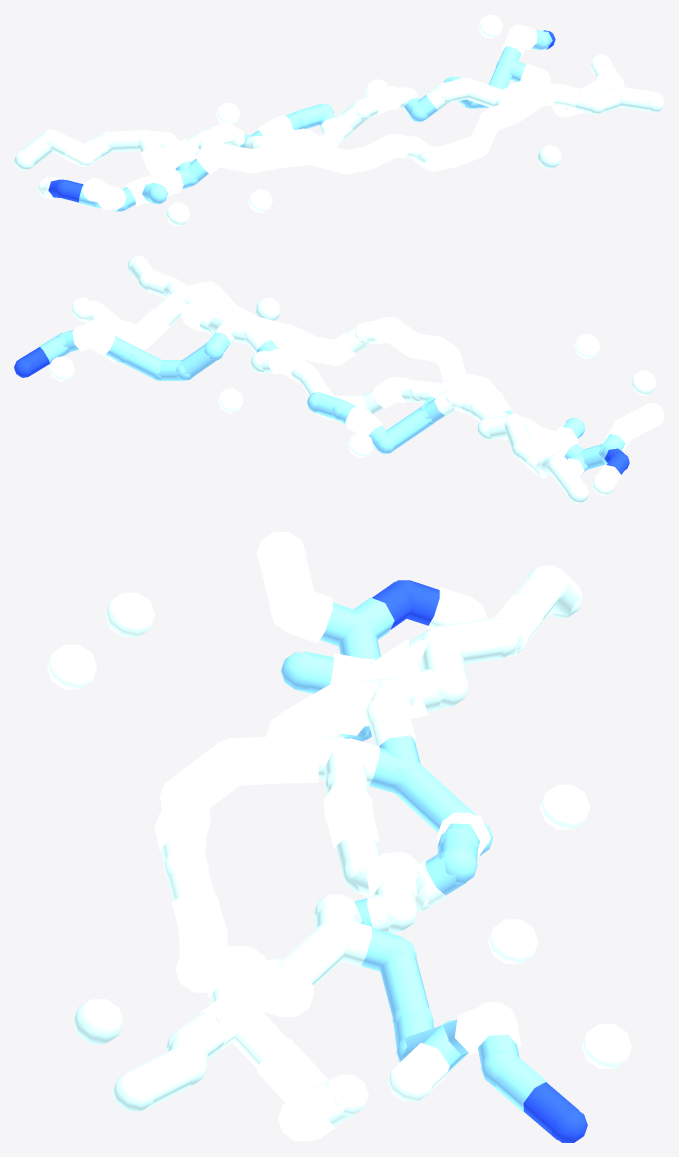
The model's file is fruit_bolt_281.glb.
3 views of the same model, one above another, from view 1: azimuth 30°, elevation 25°; view 2: azimuth 150°, elevation 25°; view 3: azimuth 270°, elevation 25° (orthographic). The views are drawn at different scales.
Visible parts, largest first — view 1: fruit_bolt_281; view 2: fruit_bolt_281; view 3: fruit_bolt_281.
Part boxes in pixels (x1,y1,x2,y2): fruit_bolt_281: [14, 14, 664, 226]; fruit_bolt_281: [14, 255, 664, 503]; fruit_bolt_281: [47, 532, 631, 1142].
Size of the model in its own units: 23.91 by 2.64 by 11.14.
